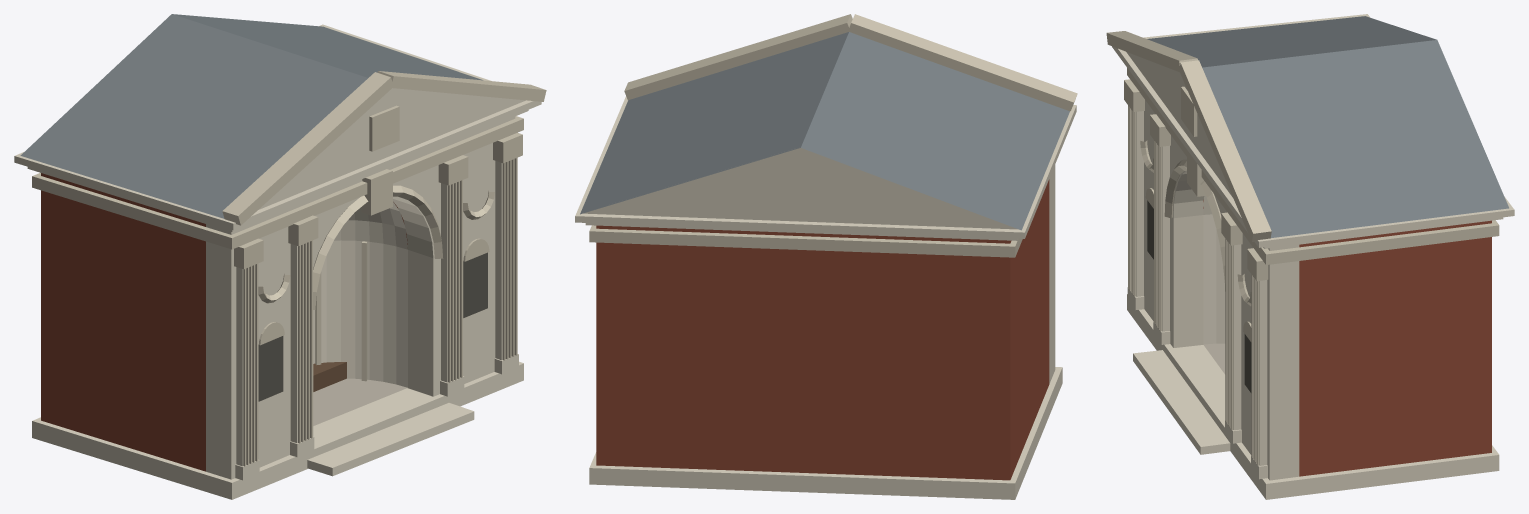
File: queen_annes_alcove.glb
3 renders of one model, left to right at view 1: azimuth 30°, elevation 25°; view 2: azimuth 150°, elevation 25°; view 3: azimuth 270°, elevation 25°, orthographic. The views are drawn at different scales.
Size of the model in its own units: 13 by 10.19 by 10.39.
